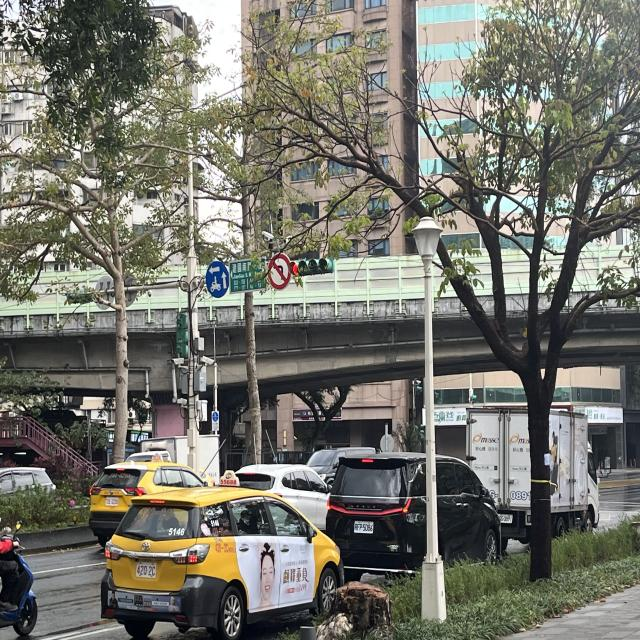red light: (290, 257, 335, 277)
